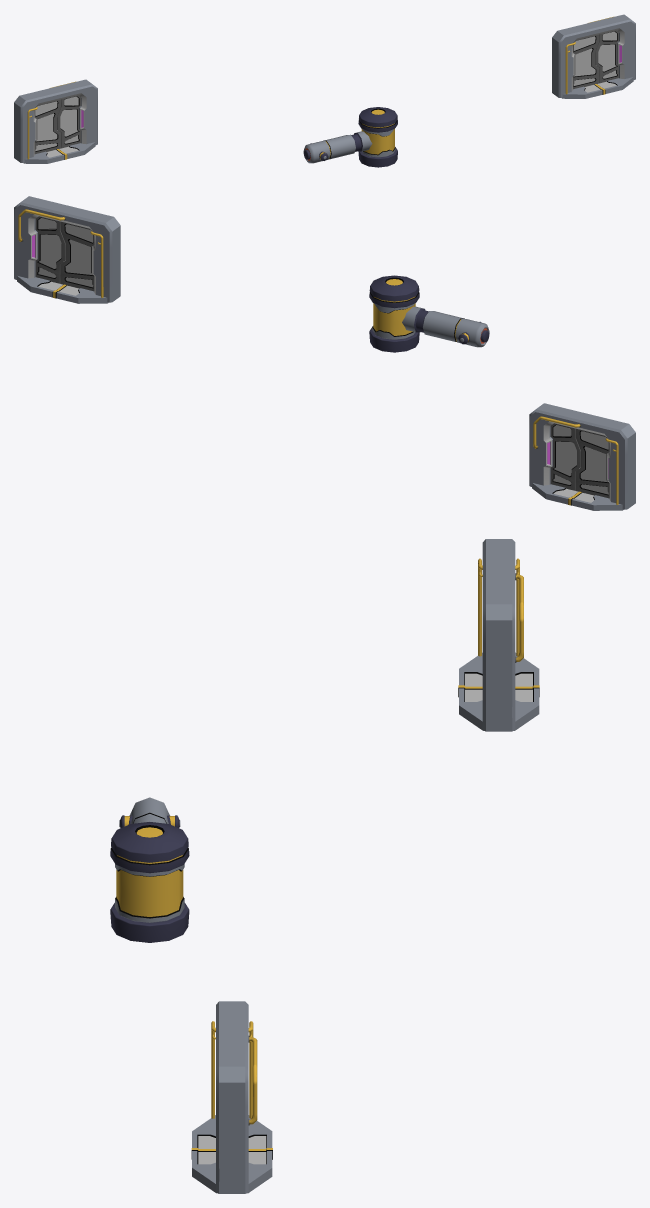
Rendered from Level32_Objects.fbx.
The picture shows the model from 3 angles, top to bottom: view 1: azimuth 30°, elevation 25°; view 2: azimuth 150°, elevation 25°; view 3: azimuth 270°, elevation 25°; orthographic projection. The views are drawn at different scales.
Visible parts, largest first — view 1: Base (×2), Right (×2), Left (×2), pCylinder13, Base5 (×2), pCylinder14; view 2: Base (×2), Right (×2), Left (×2), pCylinder13, Base5 (×2), pCylinder14; view 3: Base (×2), pCylinder13, Base5 (×2).
Boxes of the visible parts, left/top/right/bottom form: Base (×2): left=14, top=14, right=635, bottom=162; Right (×2): left=34, top=34, right=599, bottom=154; Left (×2): left=57, top=30, right=618, bottom=148; pCylinder13: left=358, top=107, right=397, bottom=167; Base5 (×2): left=23, top=77, right=633, bottom=163; pCylinder14: left=303, top=131, right=372, bottom=163; Base (×2): left=14, top=196, right=635, bottom=509; Right (×2): left=60, top=221, right=609, bottom=498; Left (×2): left=35, top=216, right=580, bottom=490; pCylinder13: left=369, top=275, right=419, bottom=352; Base5 (×2): left=17, top=276, right=623, bottom=510; pCylinder14: left=402, top=306, right=489, bottom=347; Base (×2): left=216, top=539, right=515, bottom=1193; pCylinder13: left=110, top=822, right=189, bottom=942; Base5 (×2): left=191, top=652, right=539, bottom=1193.
Bounding box in the file's own units: 387 × 42.72 × 131.
